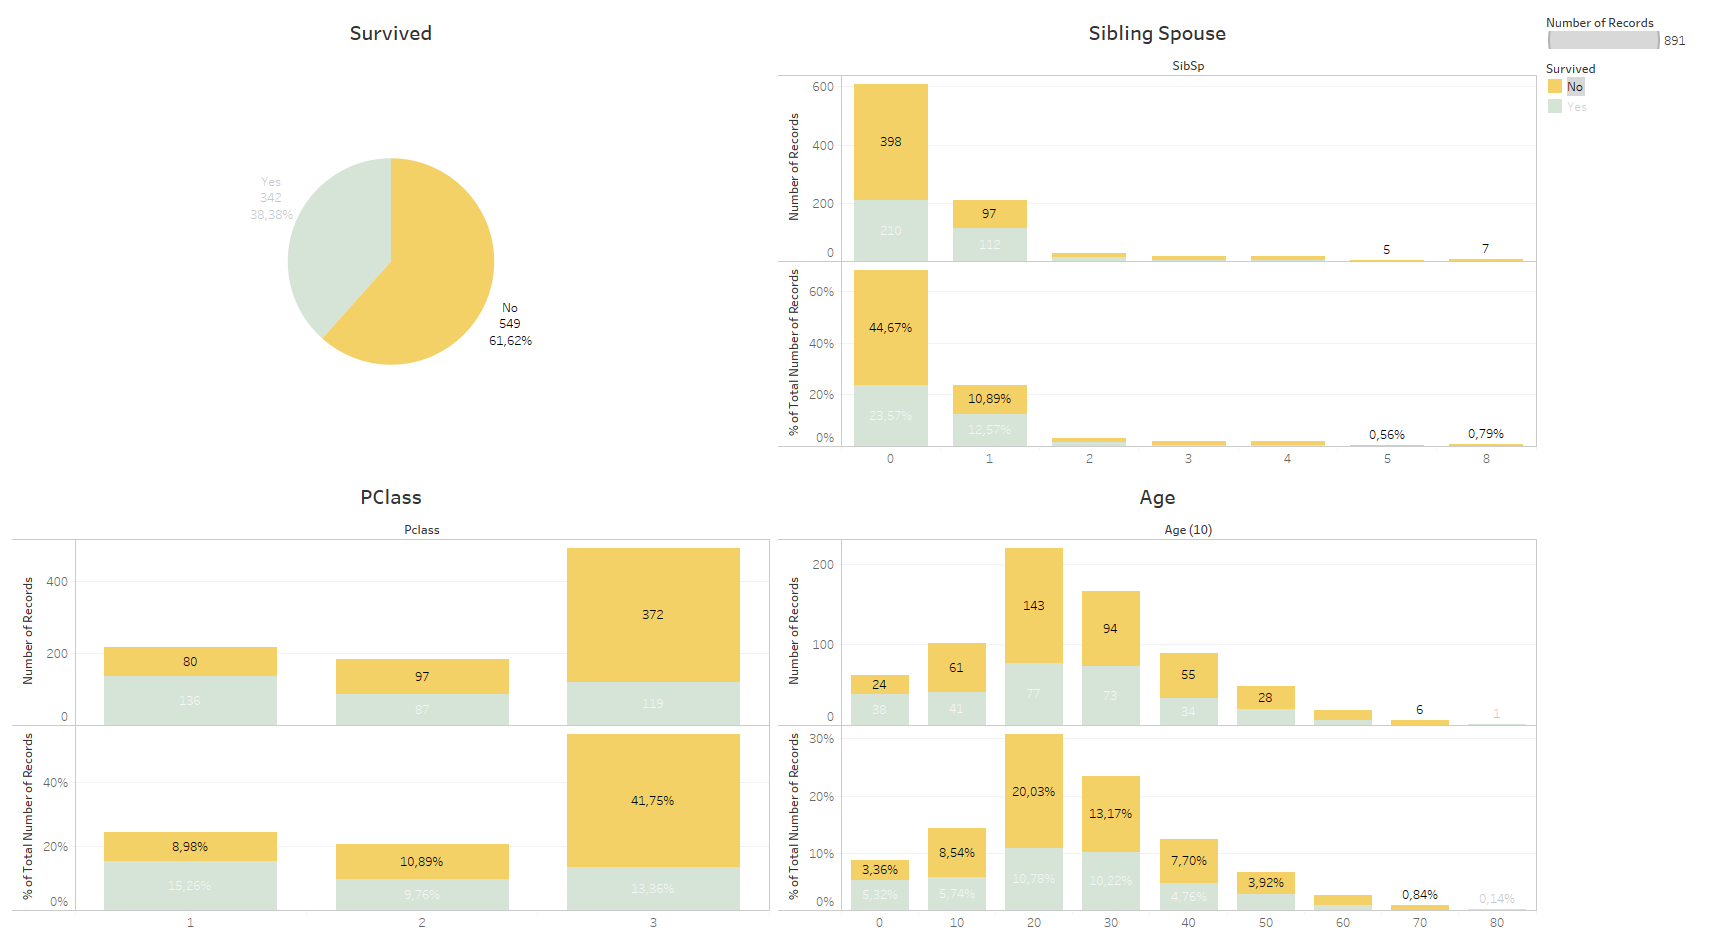

What the dashboard file says about the page in this screenshot:
{"tool":"tableau","page":{"name":"Report","canvas":[1000,1000],"units":"permille","ordinal":0},"visuals":[{"type":"worksheet","title":"Survived","mark":"Pie","box":[4.7,8.5,448.5,491.5]},{"type":"worksheet","title":"Sibling Spouse","mark":"Automatic","rows":["Number of Records","Number of Records"],"cols":["SibSp"],"box":[453.2,8.5,448.6,491.5]},{"type":"legend","title":"Survived","param":"[federated.1k5ihd51cbc3k113dtytt191uhcs].[sum:Number of Records:qk]","box":[901.7,8.5,93.6,48.7]},{"type":"legend","title":"Survived","param":"[federated.1k5ihd51cbc3k113dtytt191uhcs].[none:Survived:ok]","box":[901.7,57.2,93.6,69.9]},{"type":"worksheet","title":"PClass","mark":"Automatic","rows":["Number of Records","Number of Records"],"cols":["Pclass"],"box":[4.7,500,448.5,491.6]},{"type":"worksheet","title":"Age","mark":"Automatic","rows":["Number of Records","Number of Records"],"cols":["Age (bin)"],"box":[453.2,500,448.6,491.6]}]}

Visuals, with their boxes on the dashboard's canvas, which has no fixed pixel size, in thousandths of its width and height (x1, y1, x2, y2). These are canvas units, not pixel positions in the 1709x944 screenshot, which may show the page scaled, cropped or inside an application window:
"Survived" worksheet (Pie marks): select_region(5, 8, 453, 500)
"Sibling Spouse" worksheet: select_region(453, 8, 902, 500)
"Survived" legend: select_region(902, 8, 995, 57)
"Survived" legend: select_region(902, 57, 995, 127)
"PClass" worksheet: select_region(5, 500, 453, 992)
"Age" worksheet: select_region(453, 500, 902, 992)
